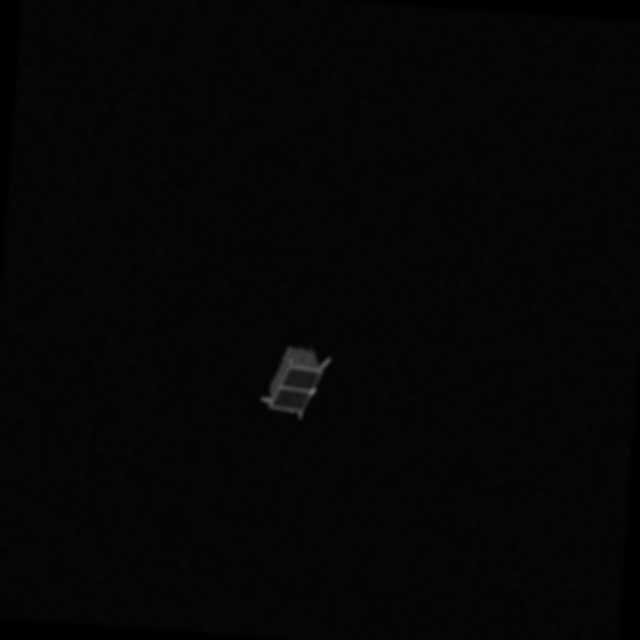medium_debris: (253, 336, 337, 419)
